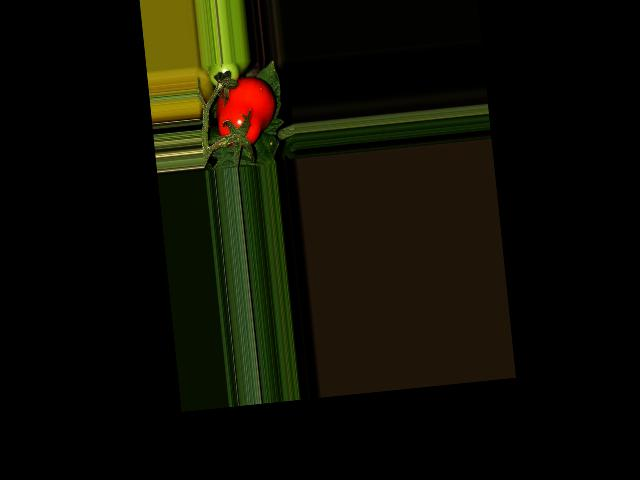tomato: (213, 74, 279, 149)
